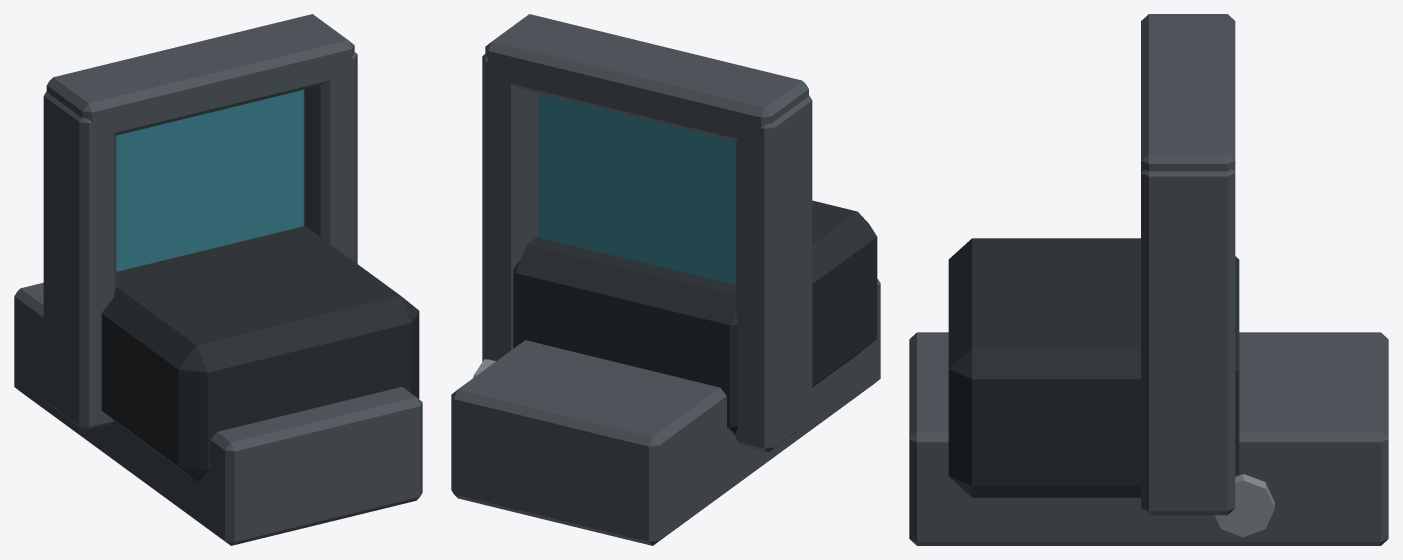
The model's file is att_optic_red_dot.glb.
3 renders of one model, left to right at view 1: azimuth 30°, elevation 25°; view 2: azimuth 150°, elevation 25°; view 3: azimuth 270°, elevation 25°, orthographic. The views are drawn at different scales.
Parts seen in each view (by area): view 1: Geometry_att_optic_red_dot; view 2: Geometry_att_optic_red_dot; view 3: Geometry_att_optic_red_dot.
Boxes of the visible parts, box(x1,y1,x2,y2) form: Geometry_att_optic_red_dot: box(14, 14, 422, 545); Geometry_att_optic_red_dot: box(451, 14, 880, 545); Geometry_att_optic_red_dot: box(909, 14, 1388, 545).
Bounding box in the file's own units: 0.045 × 0.0579 × 0.061.
